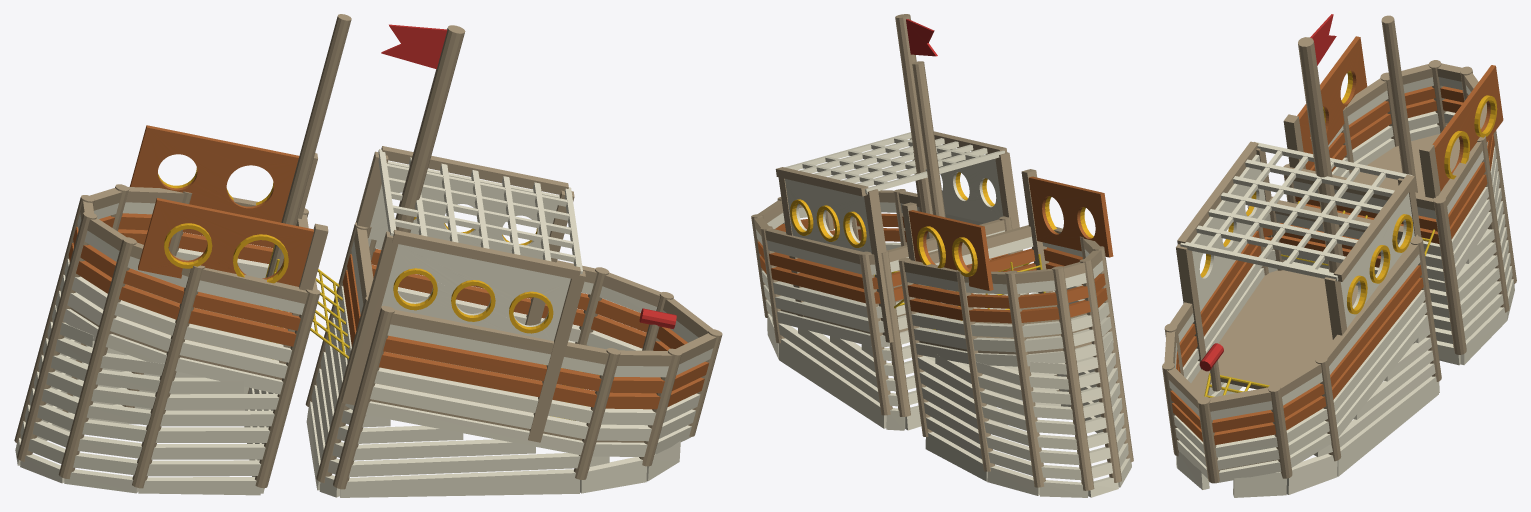
File: fairwinds-park-ship-study.glb
The picture shows the model from 3 angles, left to right: view 1: azimuth 30°, elevation 25°; view 2: azimuth 150°, elevation 25°; view 3: azimuth 270°, elevation 25°; orthographic projection. The views are drawn at different scales.
Parts seen in each view (by area): view 1: HMCS Pinnacle · white, HMCS Pinnacle · weathered, HMCS Pinnacle · orange, HMCS Pinnacle · gold, HMCS Pinnacle · flag, HMCS Pinnacle · rope; view 2: HMCS Pinnacle · white, HMCS Pinnacle · weathered, HMCS Pinnacle · orange, HMCS Pinnacle · gold, HMCS Pinnacle · flag; view 3: HMCS Pinnacle · white, HMCS Pinnacle · weathered, HMCS Pinnacle · orange, HMCS Pinnacle · gold, HMCS Pinnacle · flag, HMCS Pinnacle · rope.
Boxes of the visible parts, <box> form: HMCS Pinnacle · white: <box>15,149,712,497</box>; HMCS Pinnacle · weathered: <box>14,14,722,489</box>; HMCS Pinnacle · orange: <box>68,125,708,409</box>; HMCS Pinnacle · gold: <box>158,167,553,333</box>; HMCS Pinnacle · flag: <box>381,24,676,329</box>; HMCS Pinnacle · rope: <box>265,244,599,420</box>; HMCS Pinnacle · white: <box>755,132,1131,497</box>; HMCS Pinnacle · weathered: <box>751,14,1133,490</box>; HMCS Pinnacle · orange: <box>757,176,1113,323</box>; HMCS Pinnacle · gold: <box>790,172,1093,276</box>; HMCS Pinnacle · flag: <box>906,19,937,56</box>; HMCS Pinnacle · white: <box>1168,77,1514,497</box>; HMCS Pinnacle · weathered: <box>1162,15,1516,483</box>; HMCS Pinnacle · orange: <box>1170,36,1503,445</box>; HMCS Pinnacle · gold: <box>1200,70,1497,314</box>; HMCS Pinnacle · flag: <box>1199,14,1336,371</box>; HMCS Pinnacle · rope: <box>1204,201,1435,397</box>.
Size of the model in its own units: 8.41 by 6.31 by 5.27.
